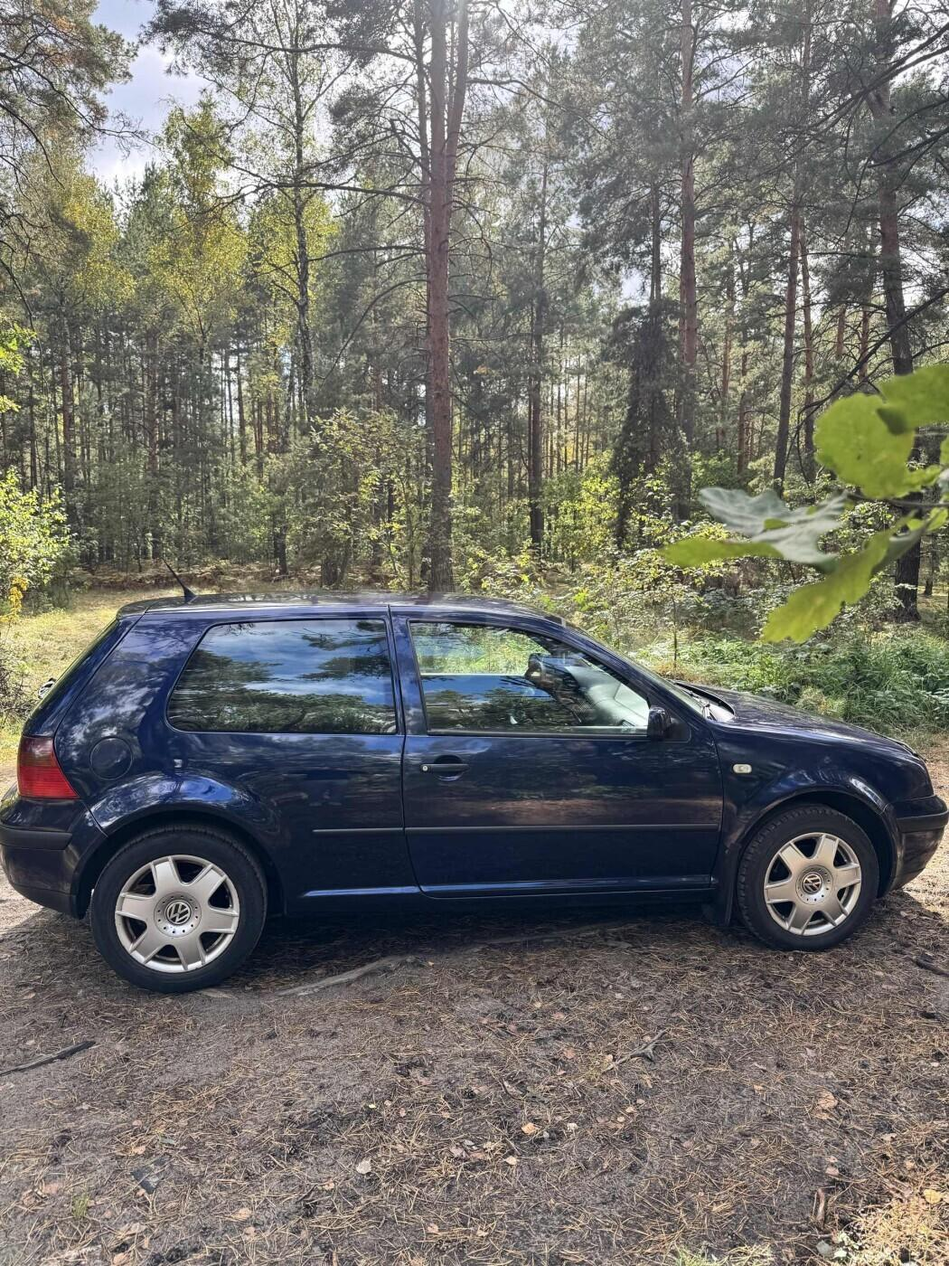Golf_1997-2006: (0, 593, 948, 982)
